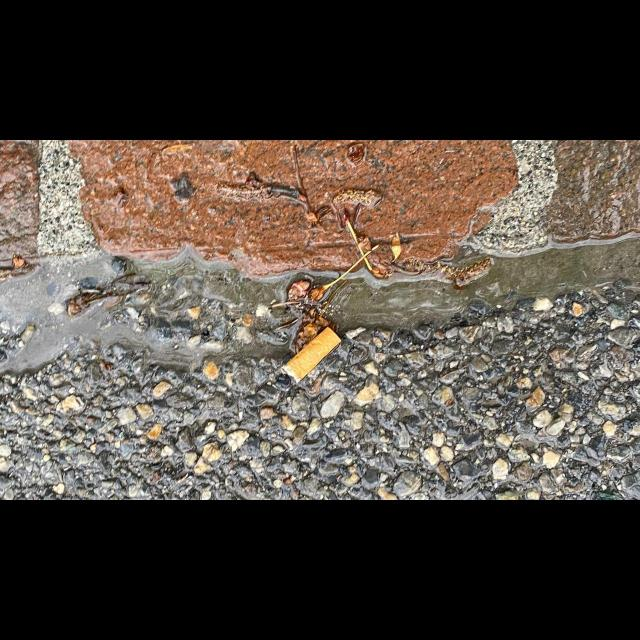cigarette: (279, 326, 342, 384)
